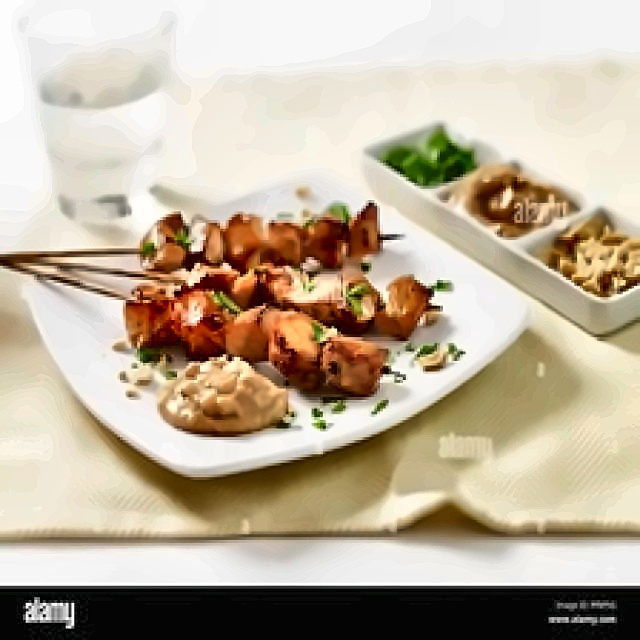satay_skewer: (0, 165, 431, 408)
